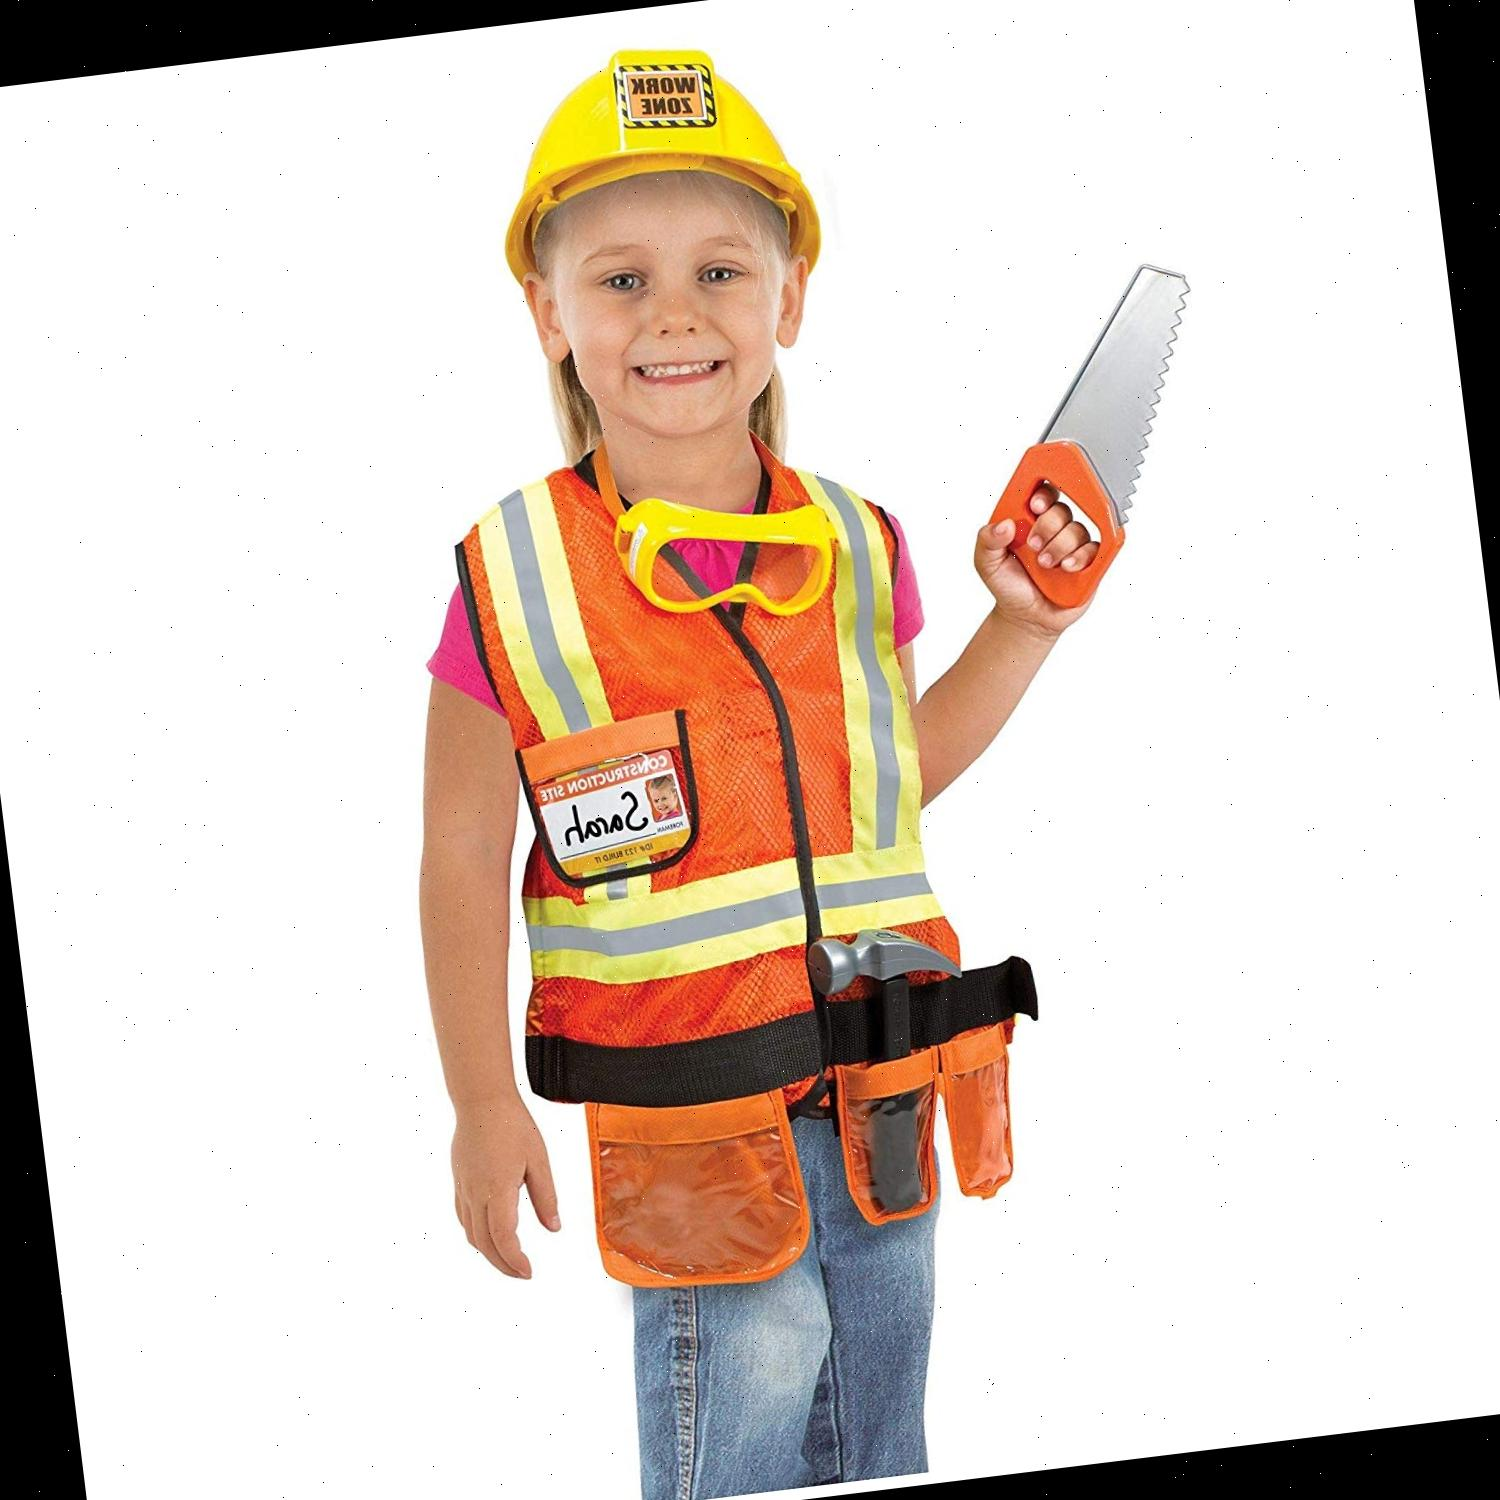helmet: (489, 26, 832, 312)
wear: (457, 452, 968, 1111)
